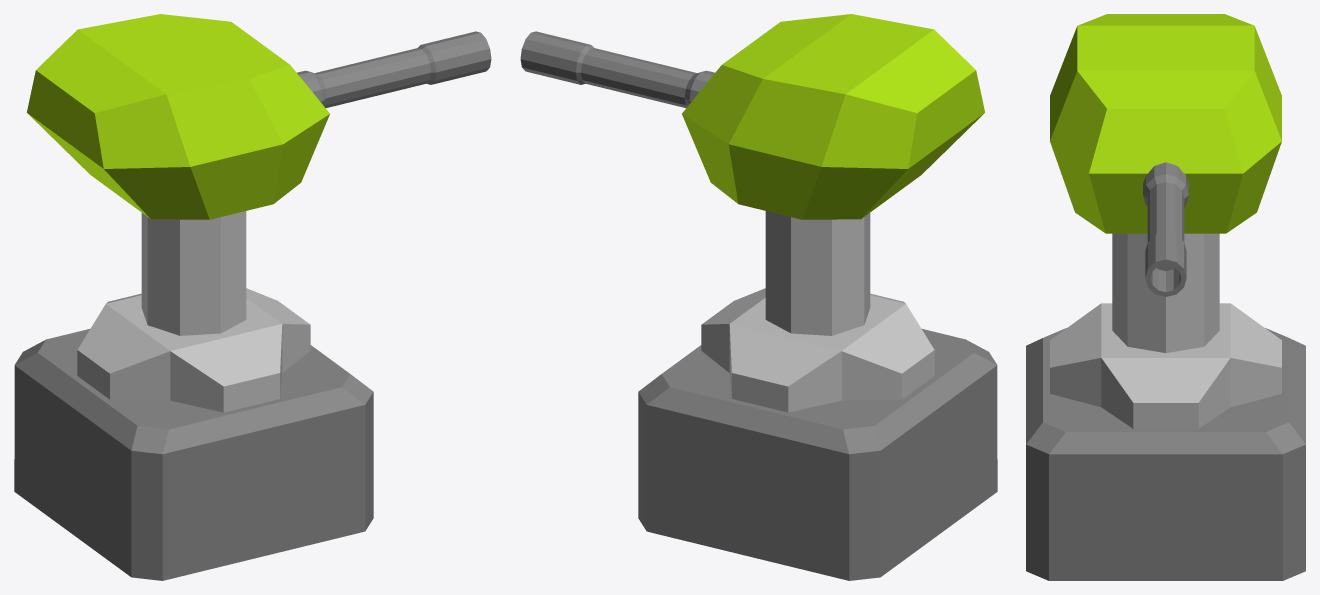
The model's file is turret.fbx.
The picture shows the model from 3 angles, left to right: view 1: azimuth 30°, elevation 25°; view 2: azimuth 150°, elevation 25°; view 3: azimuth 270°, elevation 25°; orthographic projection.
Visible parts, largest first — view 1: TurretBase, TurretHead, TurretBarrel; view 2: TurretBase, TurretHead, TurretBarrel; view 3: TurretBase, TurretHead, TurretBarrel.
Part boxes in pixels (bbox=[...]): TurretBase: bbox=[14, 211, 373, 580]; TurretHead: bbox=[27, 14, 329, 219]; TurretBarrel: bbox=[297, 31, 491, 107]; TurretBase: bbox=[638, 211, 997, 580]; TurretHead: bbox=[682, 14, 984, 219]; TurretBarrel: bbox=[520, 31, 714, 107]; TurretBase: bbox=[1026, 233, 1305, 580]; TurretHead: bbox=[1050, 14, 1281, 233]; TurretBarrel: bbox=[1143, 162, 1188, 296].
Bounding box in the file's own units: 343 × 364 × 200.
